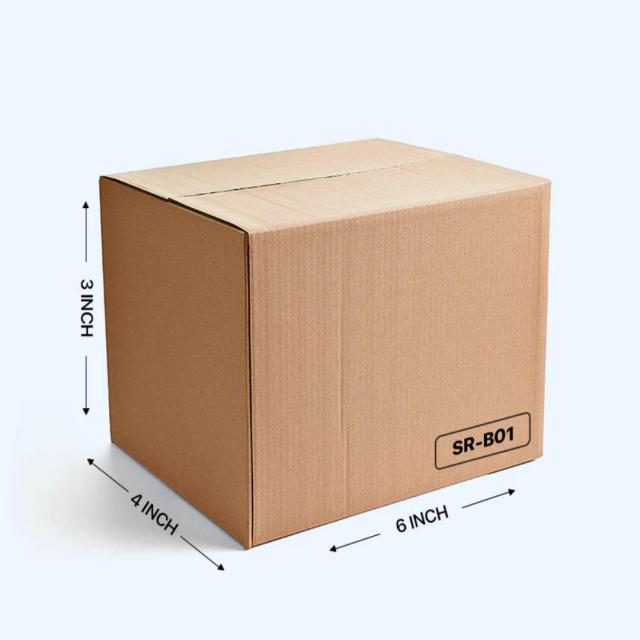box: (101, 140, 549, 547)
